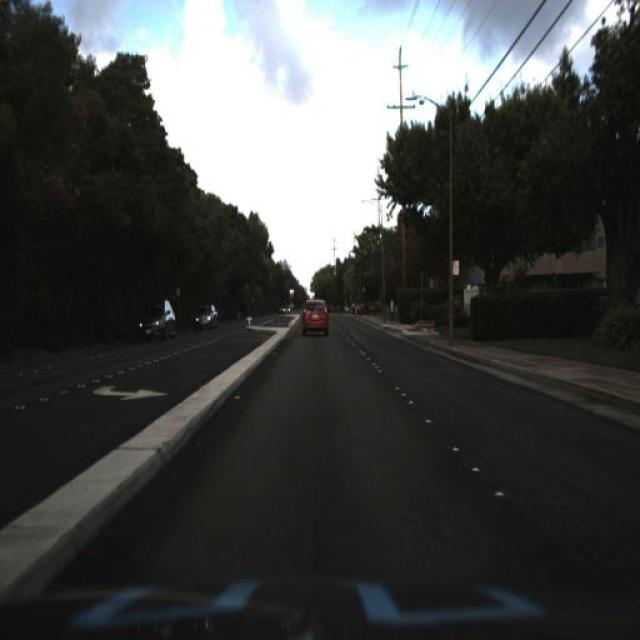car: (134, 294, 177, 340), (300, 295, 330, 337), (190, 300, 218, 336), (193, 300, 222, 330)
trafficLight: (389, 297, 395, 324)
